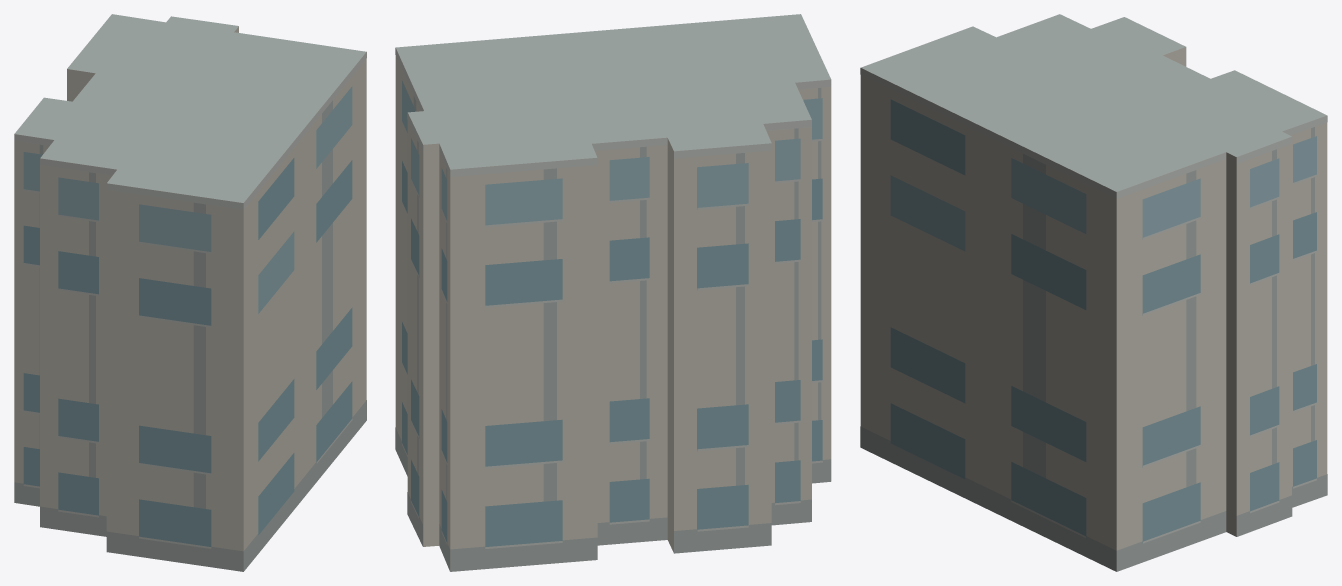
Rendered from survey-upis-33046319.glb.
The picture shows the model from 3 angles, left to right: view 1: azimuth 30°, elevation 25°; view 2: azimuth 150°, elevation 25°; view 3: azimuth 270°, elevation 25°; orthographic projection. The views are drawn at different scales.
Visible parts, largest first — view 1: survey-upis-33046319.tmp; view 2: survey-upis-33046319.tmp; view 3: survey-upis-33046319.tmp.
Part boxes in pixels (x1,y1,x2,y2): survey-upis-33046319.tmp: (14, 14, 366, 571); survey-upis-33046319.tmp: (395, 14, 831, 571); survey-upis-33046319.tmp: (860, 14, 1327, 571).
Size of the model in its own units: 13.38 by 13.3 by 14.82.
